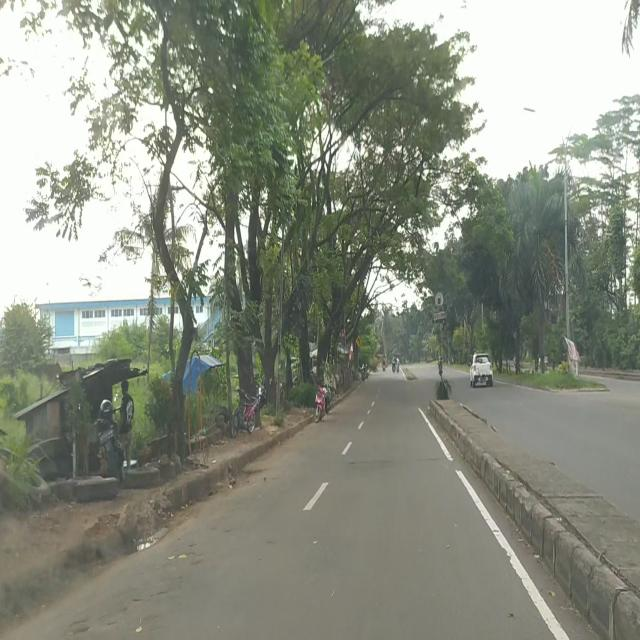Sewer Cover: (343, 453, 447, 468)
